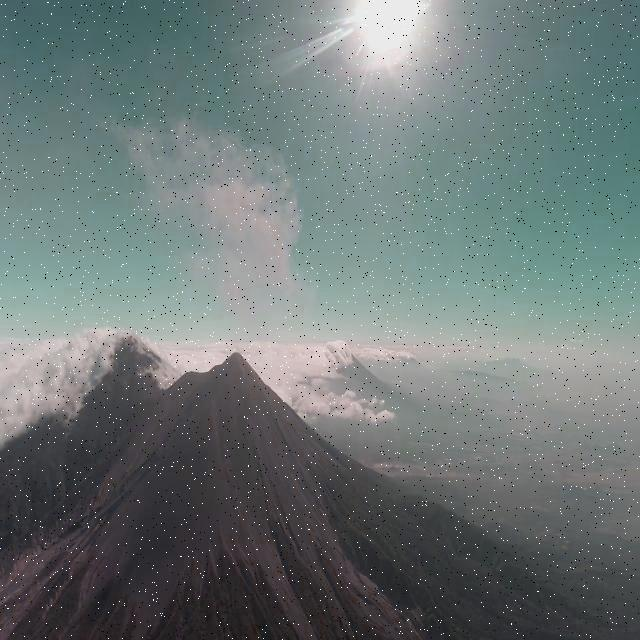Plume: (107, 79, 306, 301)
Summit: (207, 350, 261, 380)
